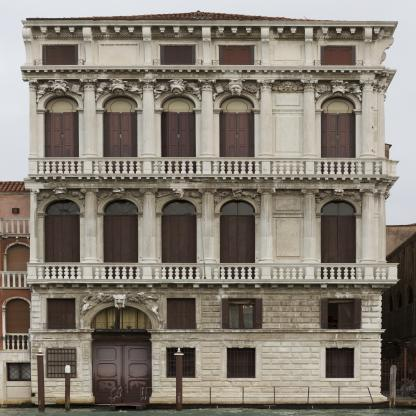Balcony: (26, 263, 401, 284), (28, 157, 388, 177)
Blind: (167, 298, 196, 329), (46, 299, 75, 330), (324, 46, 352, 66), (46, 46, 74, 65), (164, 46, 192, 65), (223, 46, 251, 65), (353, 298, 361, 329), (221, 298, 229, 329), (255, 298, 263, 329), (321, 298, 328, 329)
Building Outline: (20, 10, 401, 403)
Cornice: (41, 341, 82, 348), (320, 341, 360, 348), (161, 341, 201, 348), (221, 341, 261, 348)
Deco: (79, 291, 163, 322), (37, 187, 85, 211), (95, 79, 143, 103), (36, 79, 84, 103), (315, 79, 362, 103), (154, 79, 202, 102), (213, 79, 261, 102), (97, 187, 144, 210), (155, 188, 203, 210), (213, 189, 261, 210), (315, 189, 362, 209), (272, 79, 304, 92), (272, 189, 304, 195)
Door: (91, 333, 152, 404), (43, 215, 80, 278), (161, 215, 197, 279), (321, 215, 356, 279), (103, 215, 138, 279), (220, 215, 255, 279), (43, 113, 79, 174), (160, 113, 196, 174), (219, 113, 255, 174), (321, 113, 356, 174), (102, 113, 137, 174)
Facade: (30, 21, 386, 408)
Floor: (30, 178, 379, 283), (30, 79, 381, 178), (30, 284, 382, 337)
Floor Slab: (30, 280, 397, 284), (23, 75, 383, 79), (30, 174, 381, 178), (30, 333, 381, 337)
Ground Floor: (30, 337, 381, 409)
Molding: (39, 26, 382, 35), (27, 283, 397, 288), (27, 176, 386, 181), (26, 69, 379, 73)
Pillar: (78, 78, 98, 157), (137, 78, 157, 157), (138, 187, 158, 263), (80, 187, 100, 263), (358, 188, 378, 264), (358, 79, 377, 158), (256, 79, 275, 158), (198, 188, 218, 263), (256, 188, 276, 263), (300, 188, 320, 263), (198, 78, 216, 157), (300, 79, 318, 158), (27, 78, 39, 157)
Roof: (26, 10, 379, 21)
Sill: (160, 378, 202, 382), (319, 378, 361, 382), (220, 378, 262, 382)
Top Floor: (30, 26, 381, 79)
Window: (90, 305, 152, 329), (227, 298, 257, 329), (227, 347, 256, 378), (167, 347, 196, 378), (46, 299, 75, 330), (167, 298, 196, 329), (326, 348, 354, 379), (47, 349, 76, 378), (328, 298, 354, 329), (320, 95, 356, 113), (43, 94, 79, 112), (102, 94, 138, 112), (160, 94, 196, 112), (219, 94, 255, 112), (43, 199, 80, 215), (102, 199, 138, 215), (161, 199, 197, 215), (324, 46, 352, 66), (220, 199, 255, 215), (46, 46, 74, 65), (164, 46, 192, 65), (223, 46, 251, 65)
dont: (173, 347, 184, 410), (35, 348, 46, 410), (65, 365, 71, 411)
